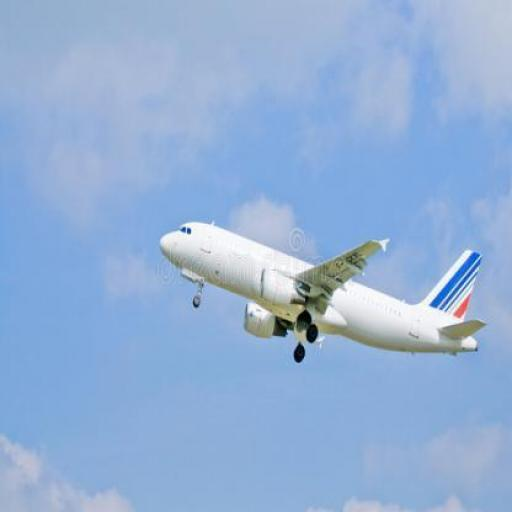aircraft: (155, 212, 487, 366)
